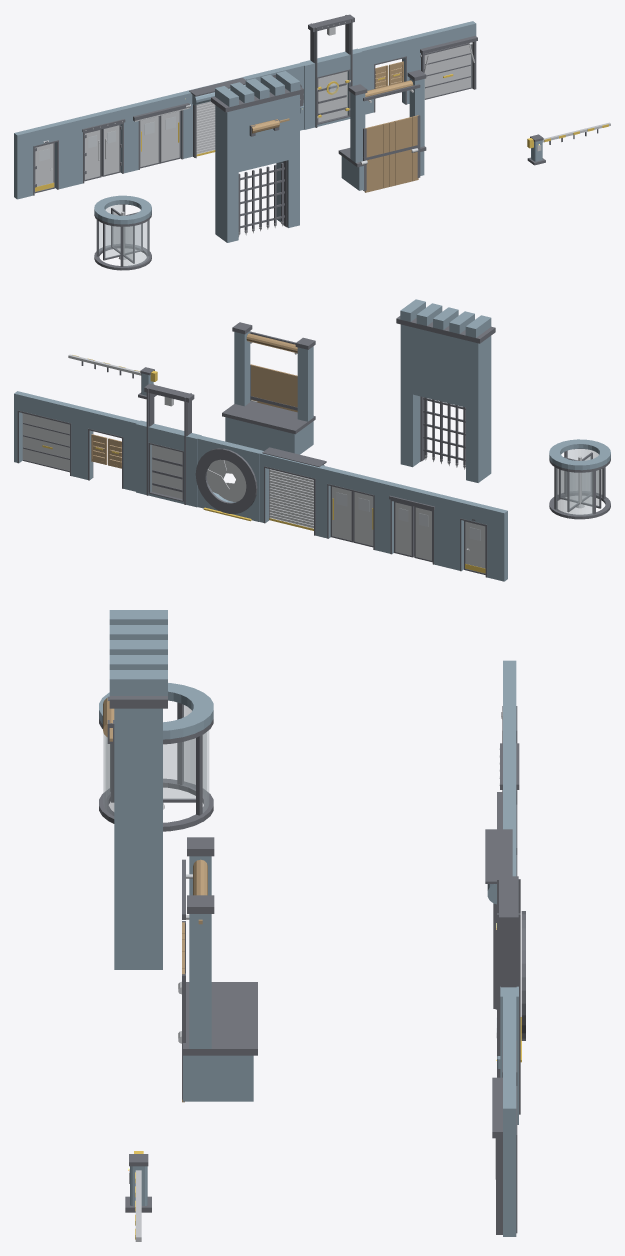
File: animated-mechanisms-kit-door-and-gate-wall-2165b47a__24659.glb
3 views of the same model, one above another, from view 1: azimuth 30°, elevation 25°; view 2: azimuth 150°, elevation 25°; view 3: azimuth 270°, elevation 25° (orthographic). The views are drawn at different scales.
Visible parts, largest first — view 1: 009-portcullis/0, 010-drawbridge/deck/timber, 000-hinged-door/0, 010-drawbridge/0, 005-airlock-door/0, 007-garage-tilt-door/door/steel, 006-saloon-swing-doors/0, 001-double-door/0, 009-portcullis/grille/iron, 002-sliding-door-pair/0, 005-airlock-door/1, 008-revolving-door/0 (+22 smaller); view 2: 009-portcullis/0, 010-drawbridge/0, 000-hinged-door/0, 006-saloon-swing-doors/0, 005-airlock-door/0, 003-roller-shutter/curtain/steel, 007-garage-tilt-door/door/steel, 002-sliding-door-pair/0, 001-double-door/0, 010-drawbridge/1, 008-revolving-door/0, 007-garage-tilt-door/0 (+21 smaller); view 3: 009-portcullis/0, 010-drawbridge/0, 010-drawbridge/1, 005-airlock-door/1, 008-revolving-door/1, 007-garage-tilt-door/0, 008-revolving-door/0, 008-revolving-door/2, 008-revolving-door/drum/glass, 003-roller-shutter/1, 007-garage-tilt-door/1, 009-portcullis/1.
Boxes of the visible parts, x1=… form: 009-portcullis/0: x1=215, y1=71, x2=300, y2=242; 010-drawbridge/deck/timber: x1=364, y1=115, x2=418, y2=192; 000-hinged-door/0: x1=14, y1=119, x2=74, y2=199; 010-drawbridge/0: x1=341, y1=78, x2=424, y2=190; 005-airlock-door/0: x1=300, y1=48, x2=362, y2=129; 007-garage-tilt-door/door/steel: x1=424, y1=44, x2=471, y2=98; 006-saloon-swing-doors/0: x1=358, y1=35, x2=418, y2=114; 001-double-door/0: x1=72, y1=105, x2=131, y2=185; 009-portcullis/grille/iron: x1=238, y1=163, x2=284, y2=234; 002-sliding-door-pair/0: x1=129, y1=91, x2=189, y2=171; 005-airlock-door/1: x1=308, y1=14, x2=354, y2=127; 008-revolving-door/0: x1=99, y1=205, x2=149, y2=266; 009-portcullis/0: x1=400, y1=299, x2=491, y2=482; 010-drawbridge/0: x1=225, y1=331, x2=313, y2=454; 000-hinged-door/0: x1=443, y1=496, x2=507, y2=581; 006-saloon-swing-doors/0: x1=75, y1=406, x2=139, y2=491; 005-airlock-door/0: x1=136, y1=420, x2=201, y2=507; 003-roller-shutter/curtain/steel: x1=269, y1=469, x2=313, y2=528; 007-garage-tilt-door/door/steel: x1=22, y1=414, x2=69, y2=470; 002-sliding-door-pair/0: x1=320, y1=466, x2=384, y2=551; 001-double-door/0: x1=381, y1=481, x2=446, y2=566; 010-drawbridge/1: x1=222, y1=322, x2=315, y2=434; 008-revolving-door/0: x1=556, y1=449, x2=601, y2=515; 007-garage-tilt-door/0: x1=14, y1=391, x2=78, y2=476; 009-portcullis/0: x1=109, y1=610, x2=167, y2=969; 010-drawbridge/0: x1=183, y1=856, x2=253, y2=1101; 010-drawbridge/1: x1=183, y1=837, x2=257, y2=1055; 005-airlock-door/1: x1=497, y1=876, x2=520, y2=1114; 008-revolving-door/1: x1=99, y1=702, x2=213, y2=831; 007-garage-tilt-door/0: x1=503, y1=1052, x2=516, y2=1236; 008-revolving-door/0: x1=103, y1=705, x2=208, y2=815; 008-revolving-door/2: x1=99, y1=683, x2=213, y2=739; 008-revolving-door/drum/glass: x1=163, y1=738, x2=195, y2=799; 003-roller-shutter/1: x1=485, y1=829, x2=517, y2=1009; 007-garage-tilt-door/1: x1=492, y1=1077, x2=517, y2=1234; 009-portcullis/1: x1=107, y1=696, x2=167, y2=743.
Size of the model in its own units: 26.55 by 7.24 by 9.67.
